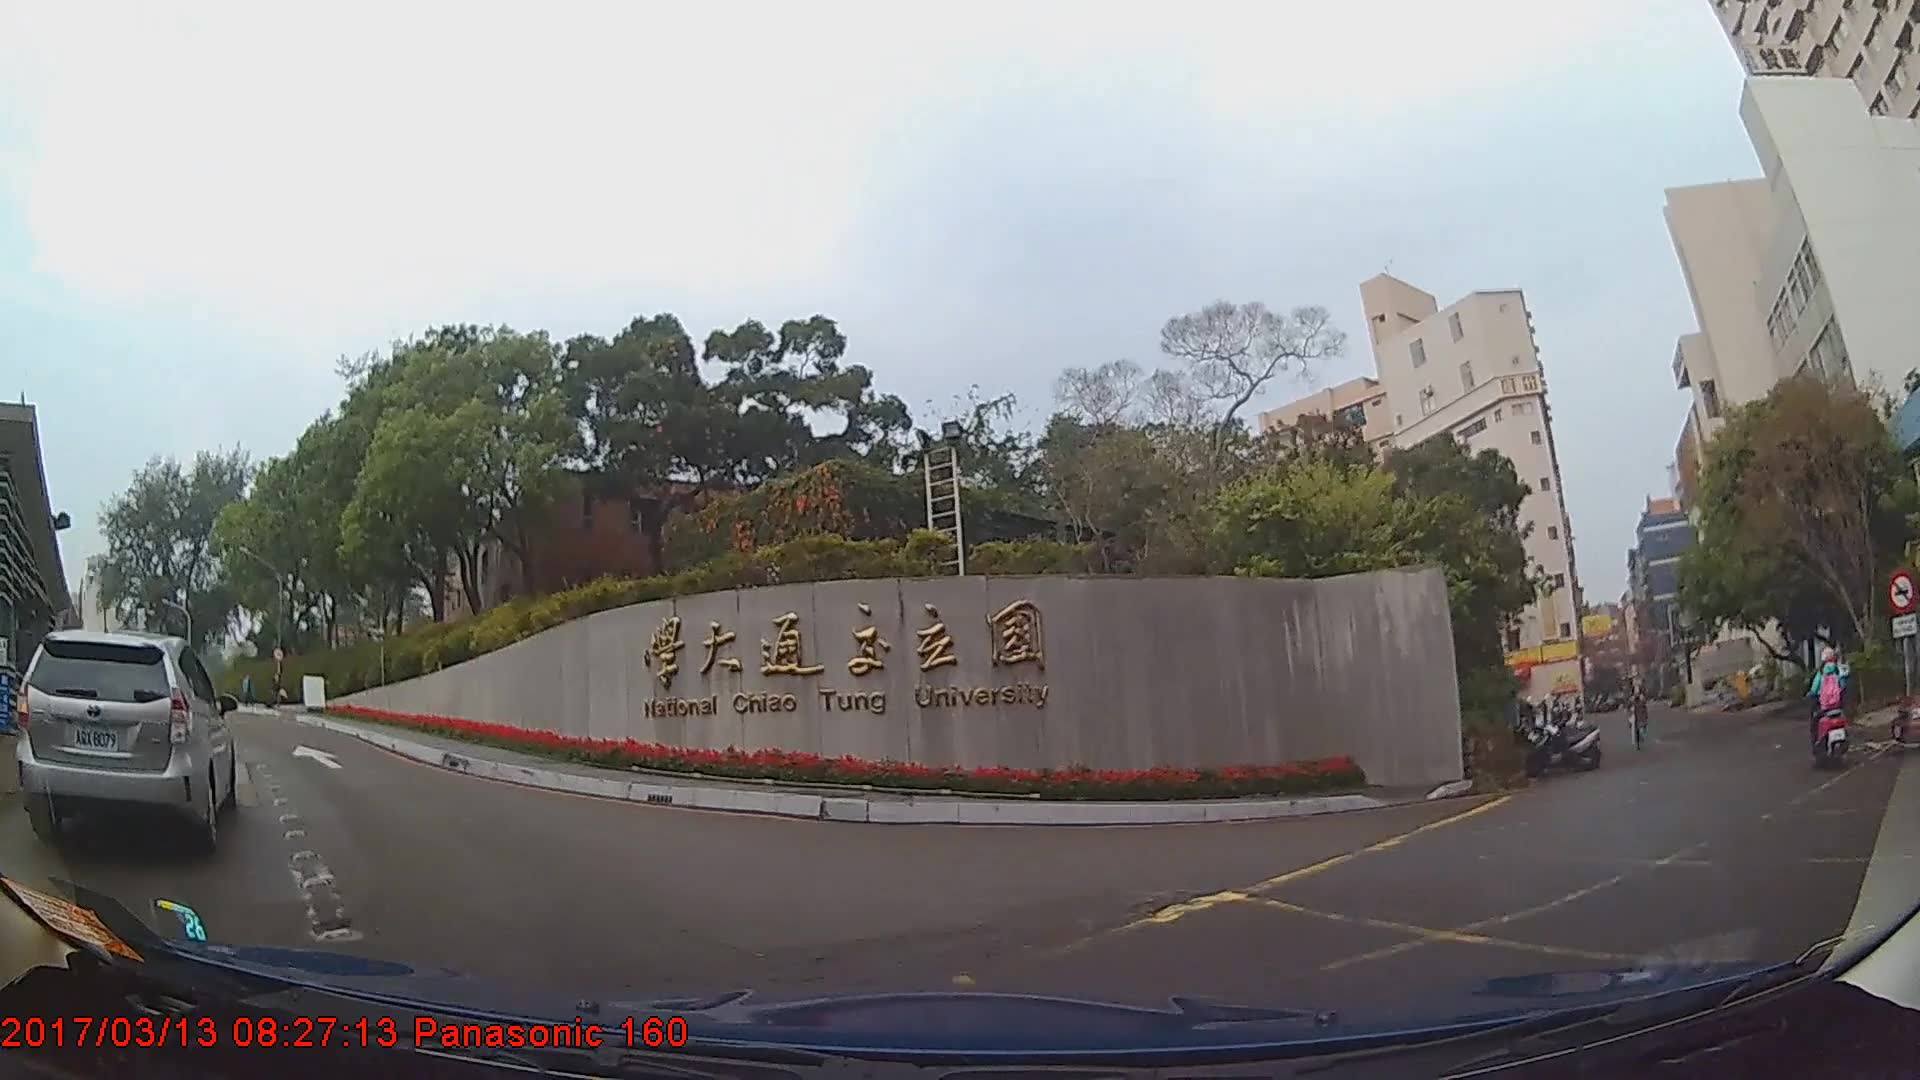pedestrian: (1629, 689, 1652, 753)
rider: (1808, 648, 1854, 776)
vehicle: (15, 627, 235, 855)
